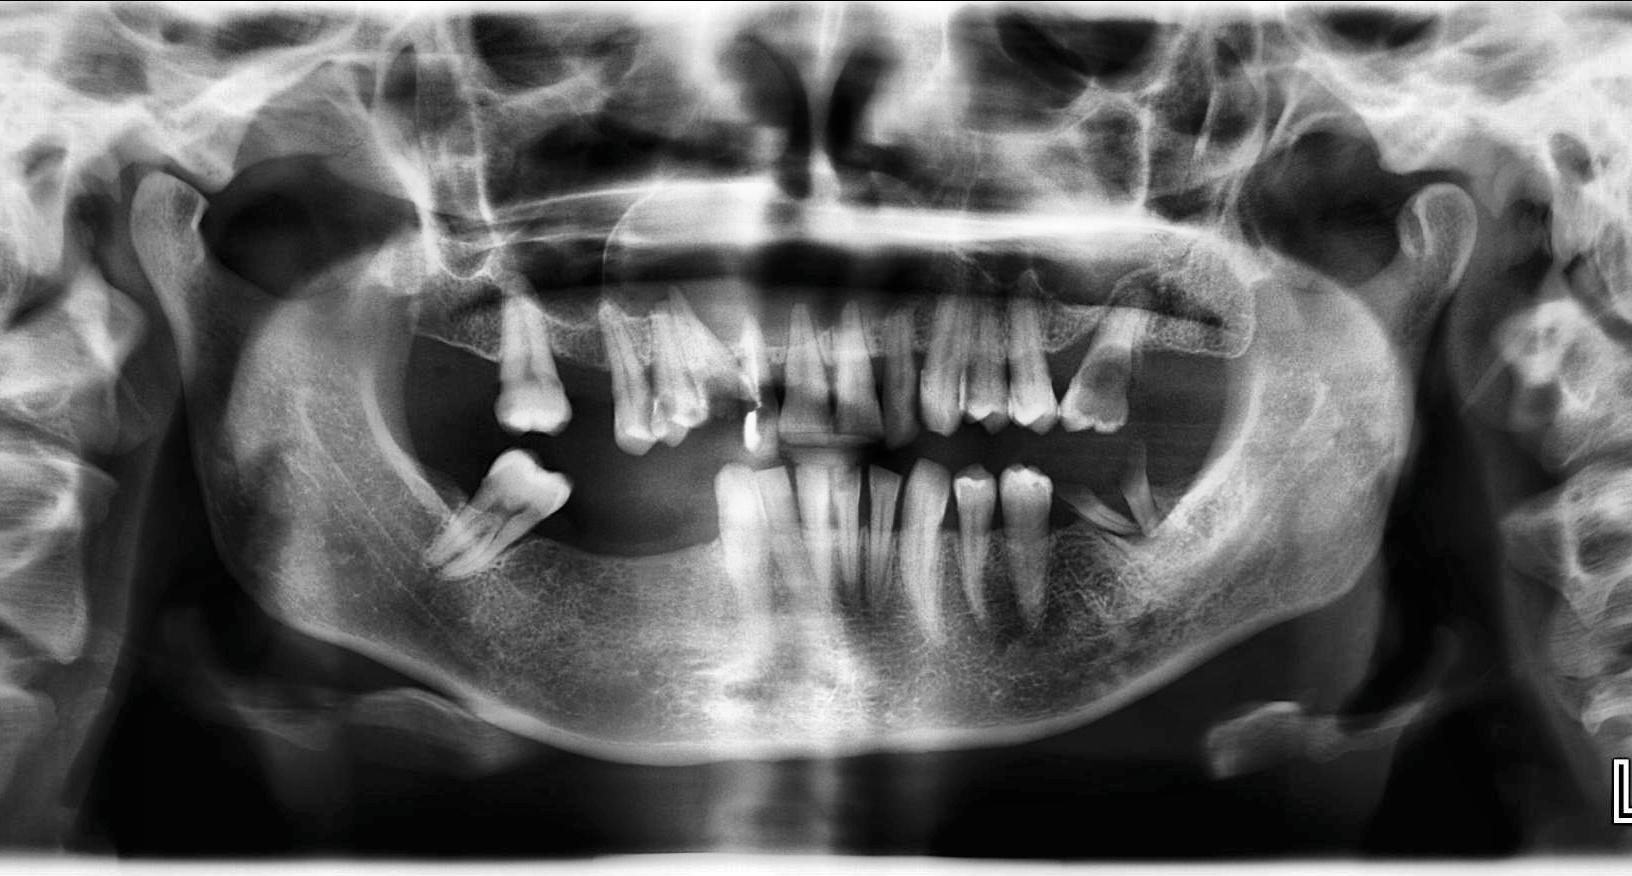radikuler: (601, 169, 946, 347)
